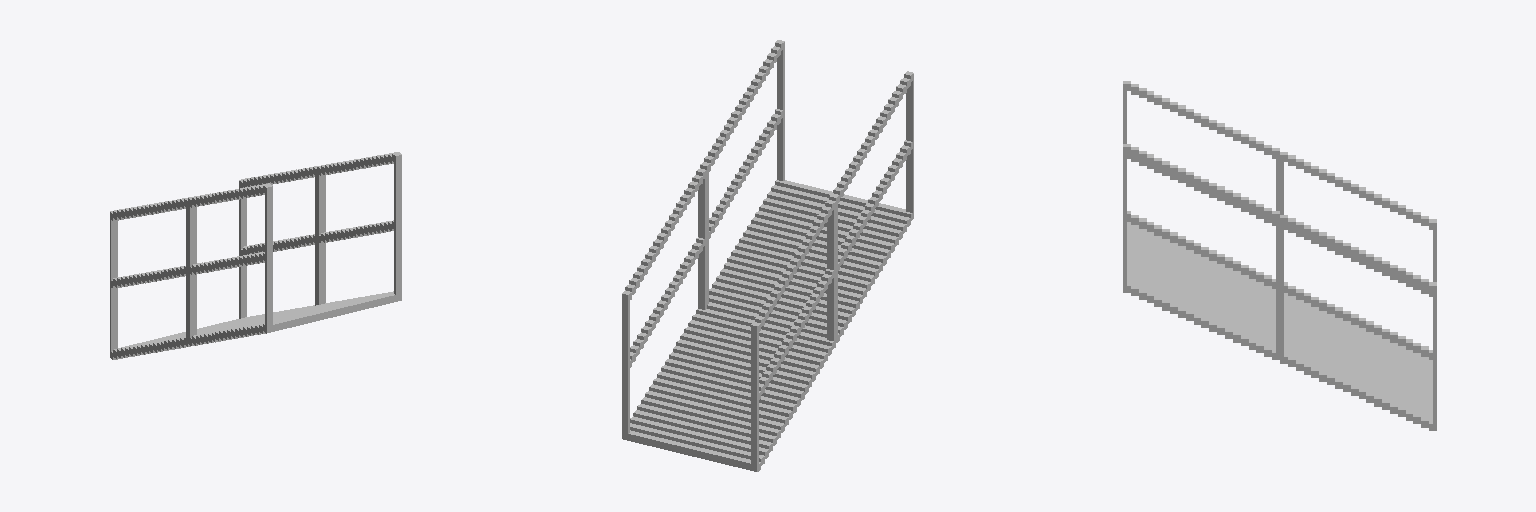
File: platform ramp.obj
3 renders of one model, left to right at view 1: azimuth 30°, elevation 25°; view 2: azimuth 150°, elevation 25°; view 3: azimuth 270°, elevation 25°, orthographic.
Parts seen in each view (by area): view 1: object 1; view 2: object 1; view 3: object 1.
Boxes of the visible parts, box(x1,y1,x2,y2) form: object 1: box(110, 152, 401, 359); object 1: box(622, 40, 913, 471); object 1: box(1123, 81, 1436, 430).
Size of the model in its own units: 4 by 8 by 8.